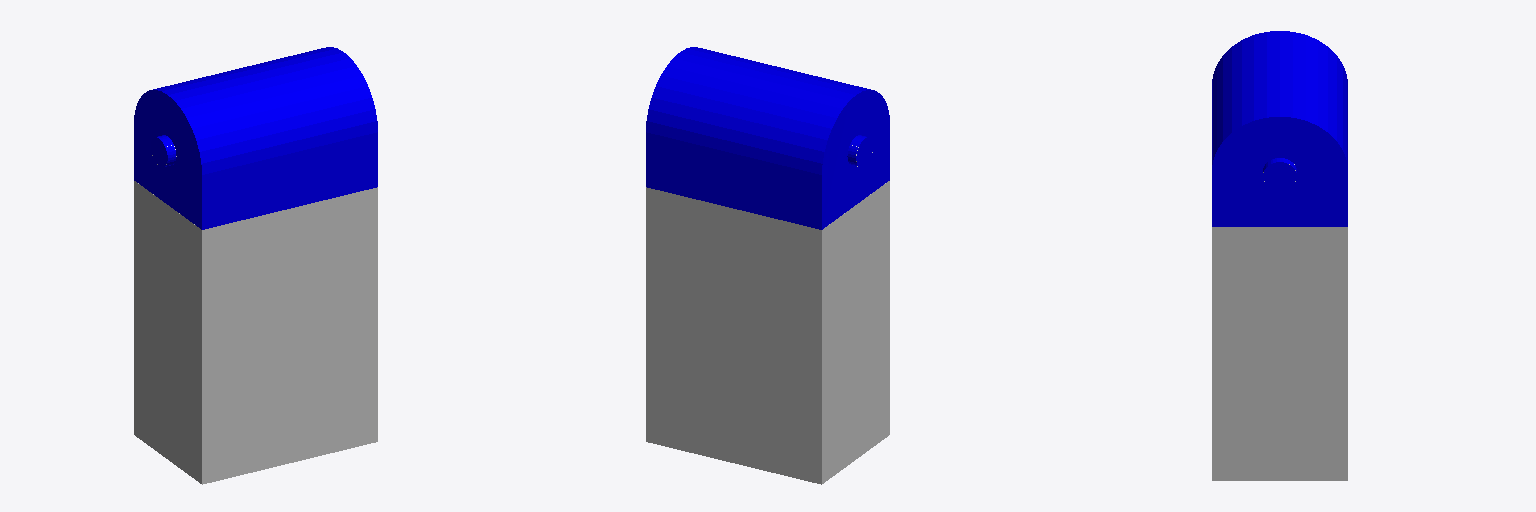
3 views of the same model, side by side, from view 1: azimuth 30°, elevation 25°; view 2: azimuth 150°, elevation 25°; view 3: azimuth 270°, elevation 25° (orthographic).
Visible parts, largest first — view 1: body_r_prox_pinvpin2_collision_Cube.581; view 2: body_r_prox_pinvpin2_collision_Cube.581; view 3: body_r_prox_pinvpin2_collision_Cube.581.
Boxes of the visible parts, x1=… form: body_r_prox_pinvpin2_collision_Cube.581: x1=134, y1=47, x2=377, y2=484; body_r_prox_pinvpin2_collision_Cube.581: x1=646, y1=47, x2=889, y2=484; body_r_prox_pinvpin2_collision_Cube.581: x1=1212, y1=31, x2=1347, y2=480.
Bounding box in the file's own units: 0.352 × 0.6334 × 0.215.
2 materials, 1 textured.